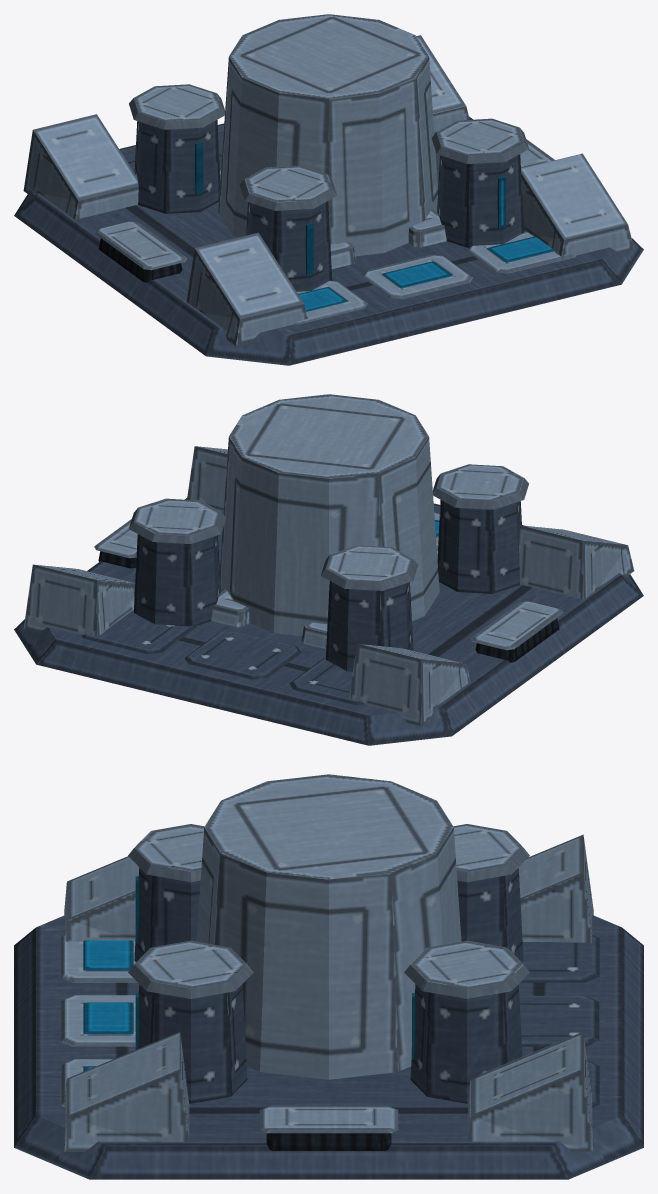
Rendered from building-fusion.fbx.
The picture shows the model from 3 angles, top to bottom: view 1: azimuth 30°, elevation 25°; view 2: azimuth 150°, elevation 25°; view 3: azimuth 270°, elevation 25°; orthographic projection. The views are drawn at different scales.
Parts seen in each view (by area): view 1: building-fusion; view 2: building-fusion; view 3: building-fusion.
Boxes of the visible parts, box(x1,y1,x2,y2) form: building-fusion: box(14, 14, 643, 365); building-fusion: box(14, 394, 643, 745); building-fusion: box(14, 774, 643, 1179).
Bounding box in the file's own units: 3640 × 1400 × 3640.
1 material, 1 textured.
